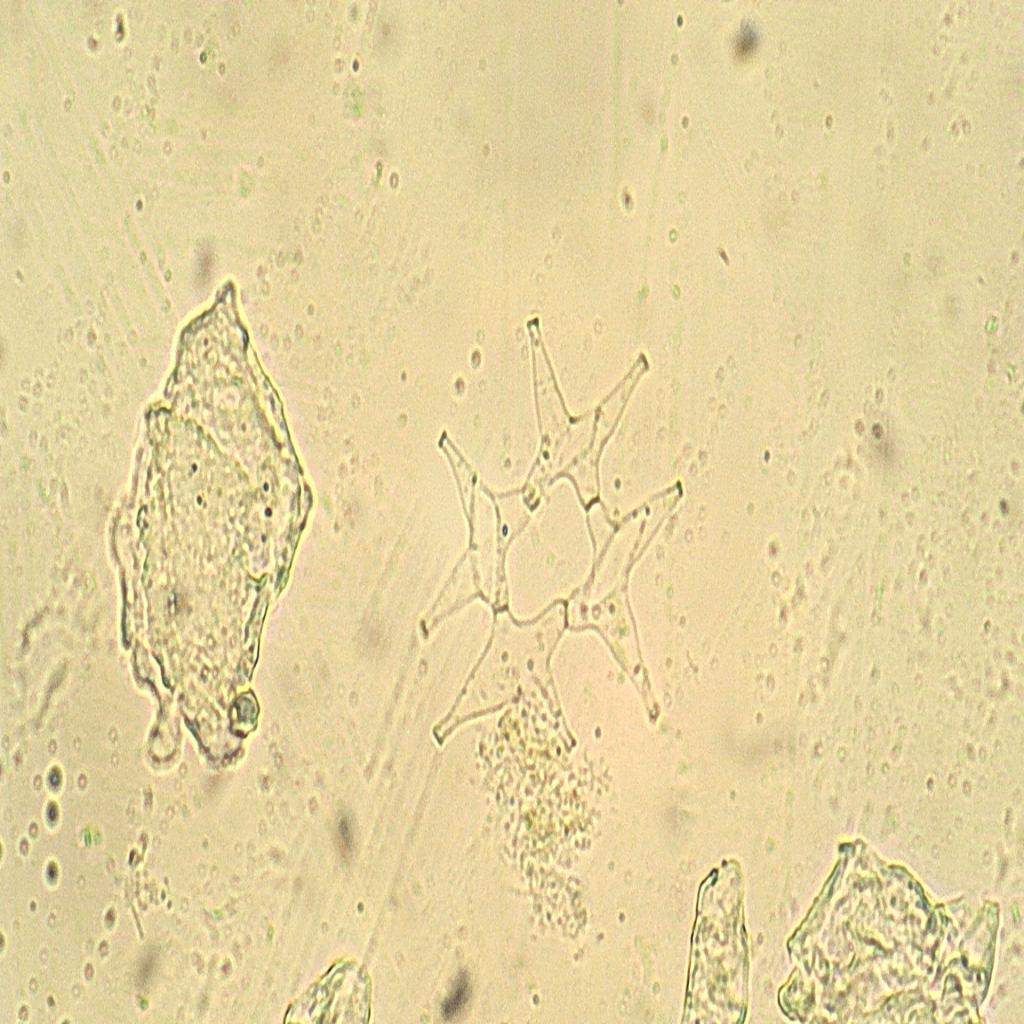Pediastrum_1F0: (402, 292, 700, 781)
